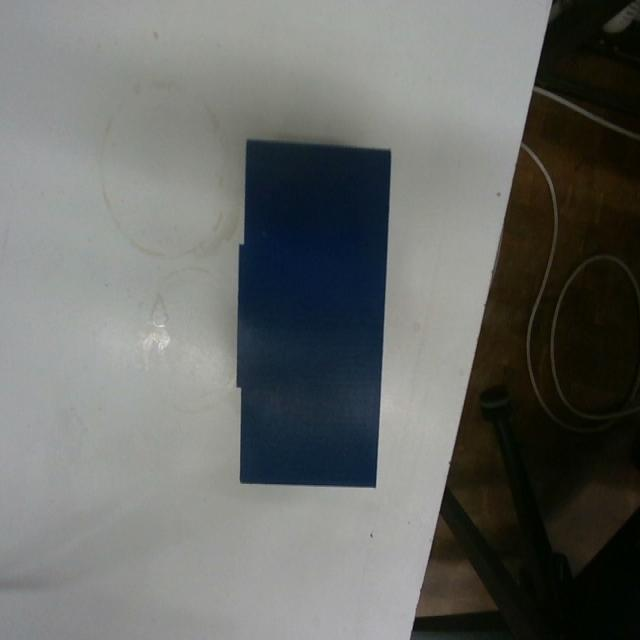Blue Cuboid: (235, 135, 392, 489)
